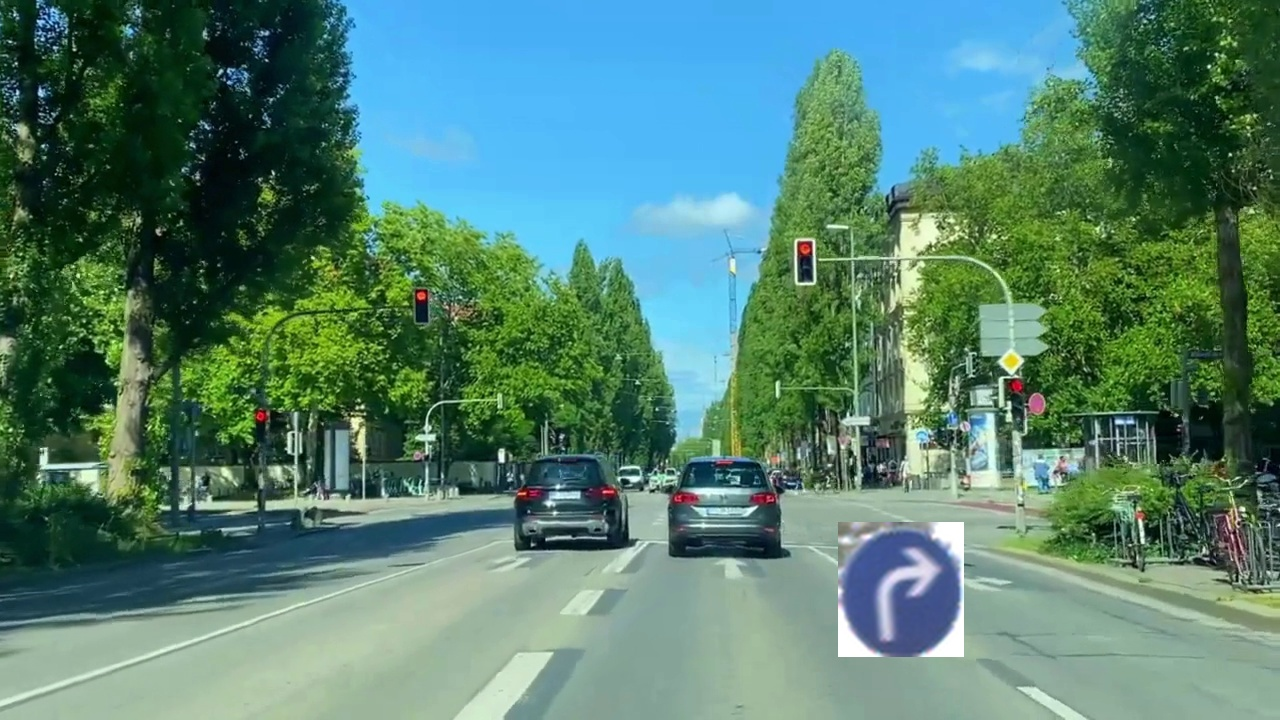Turn right: (838, 522, 964, 657)
